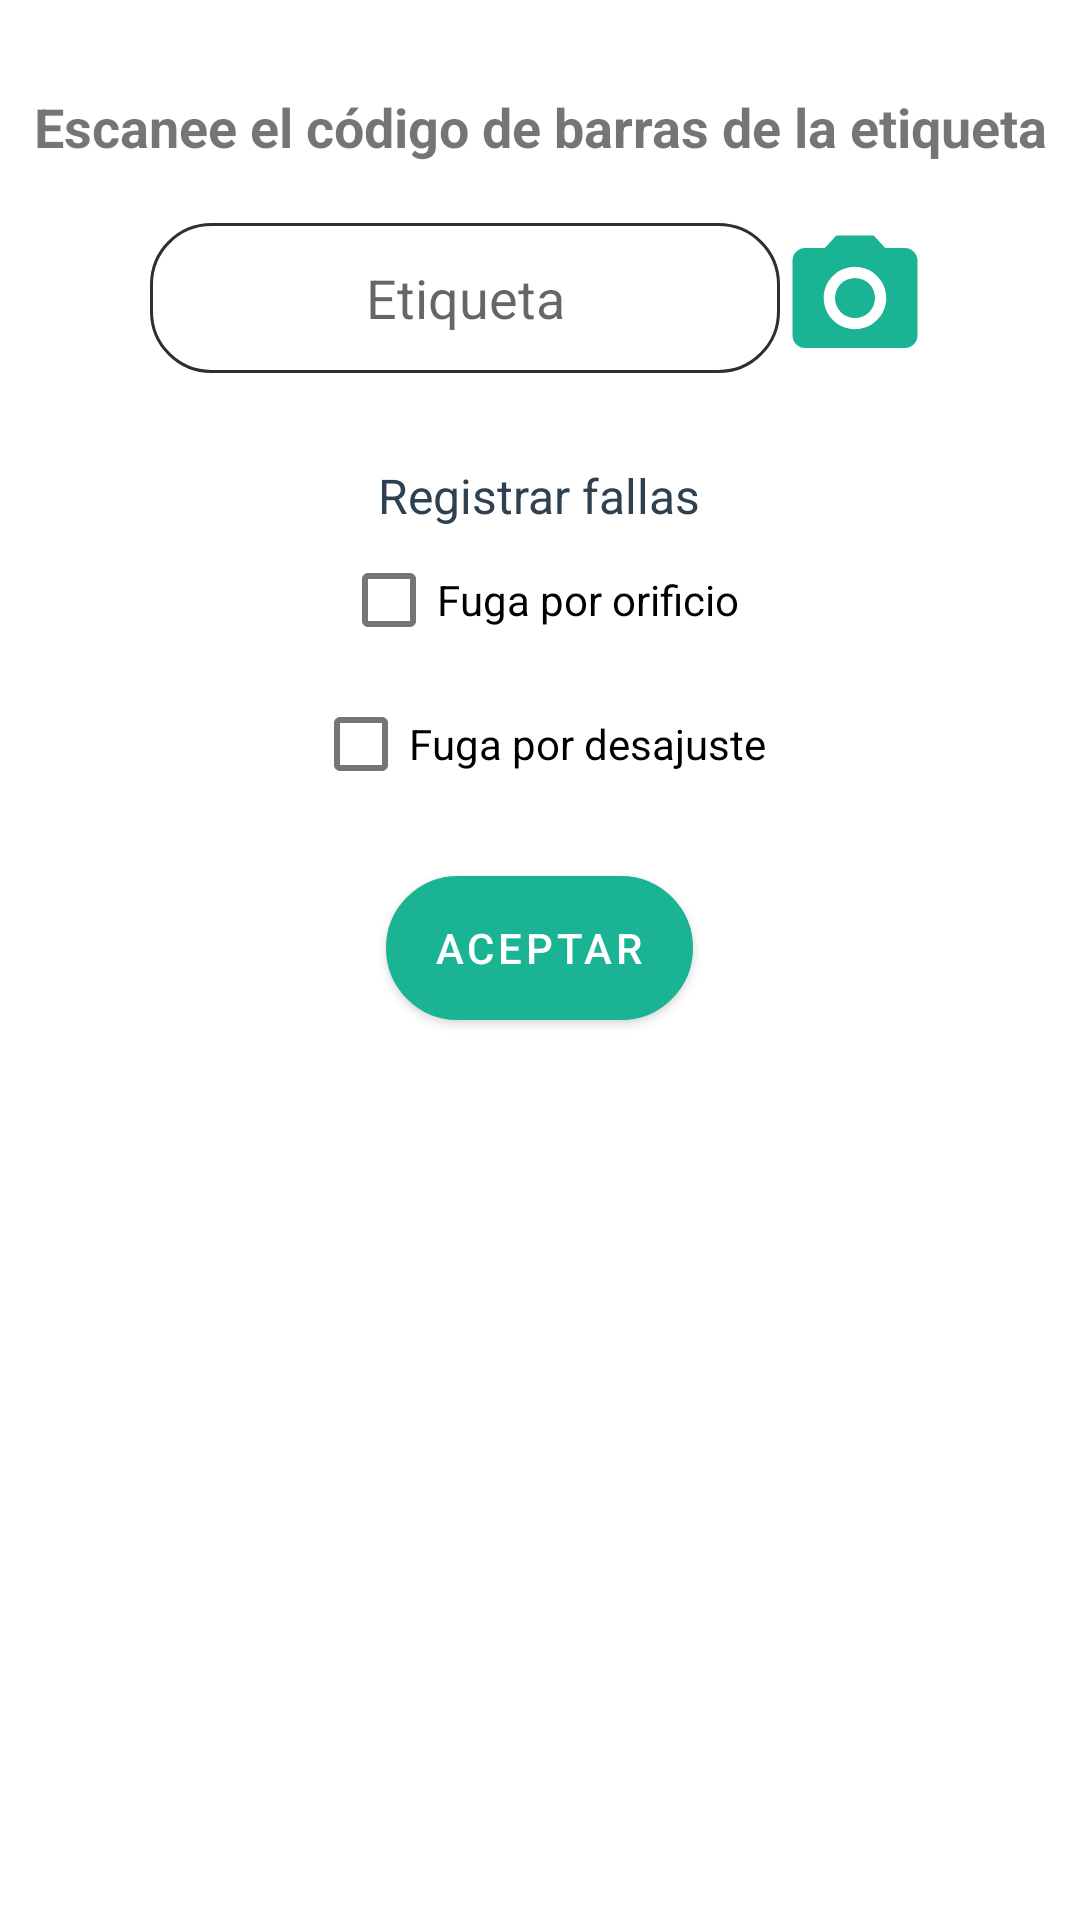

Named icons in this screenshot (1080×1920) and their bounding boxes, (x1, y1, x2, y2):
photo camera: (792, 235, 918, 348)
